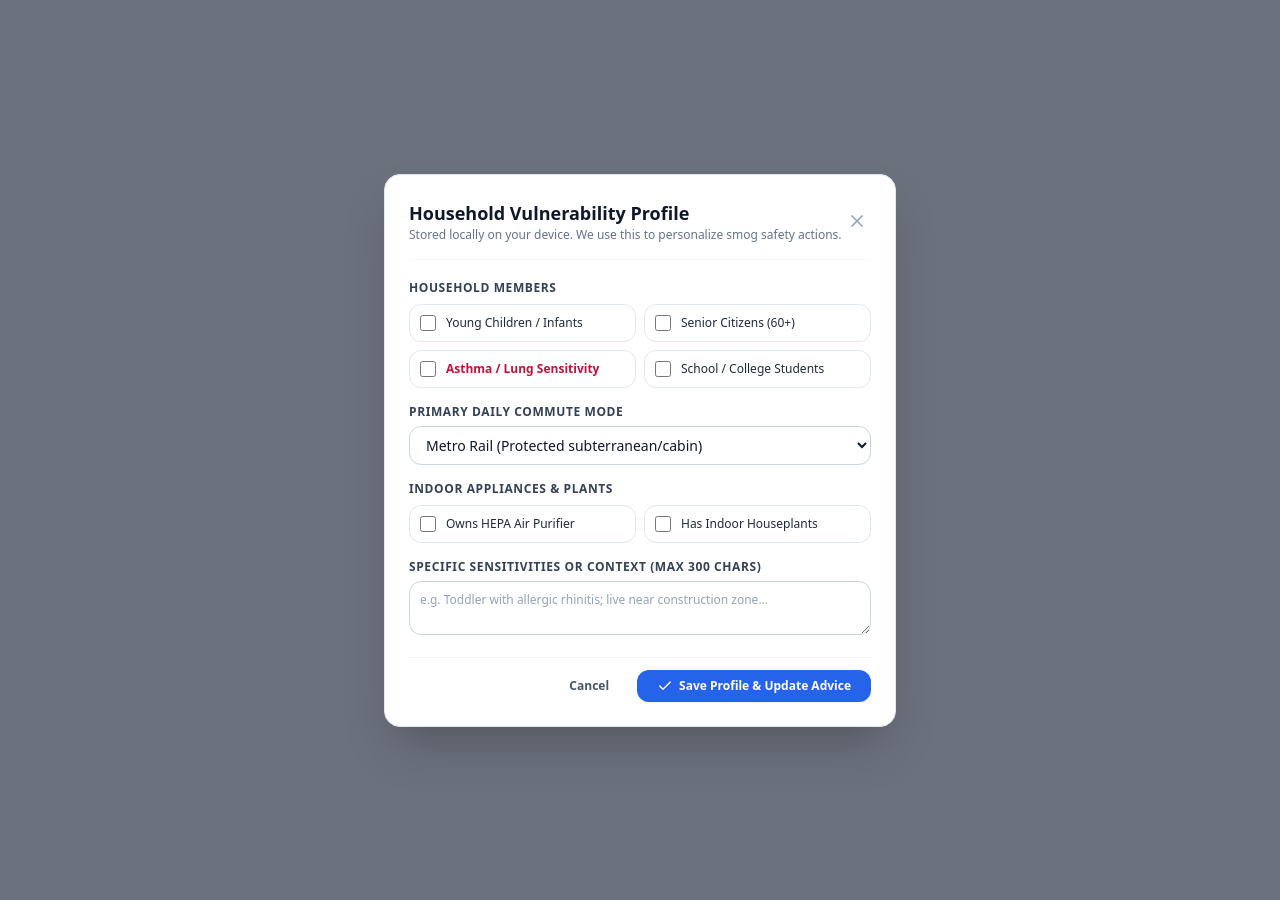
ProfileModal Component › renders form elements and allows saving updated configuration
The width and height of the screenshot is (1280, 900).
Later steps or results of the test are not shown.
Expected: the heading "Household Vulnerability Profile" is shown, [409,200,689,224]
Step 1. Click the checkbox labelled "Young Children / Infants" → (428, 322), box [420,314,436,330]
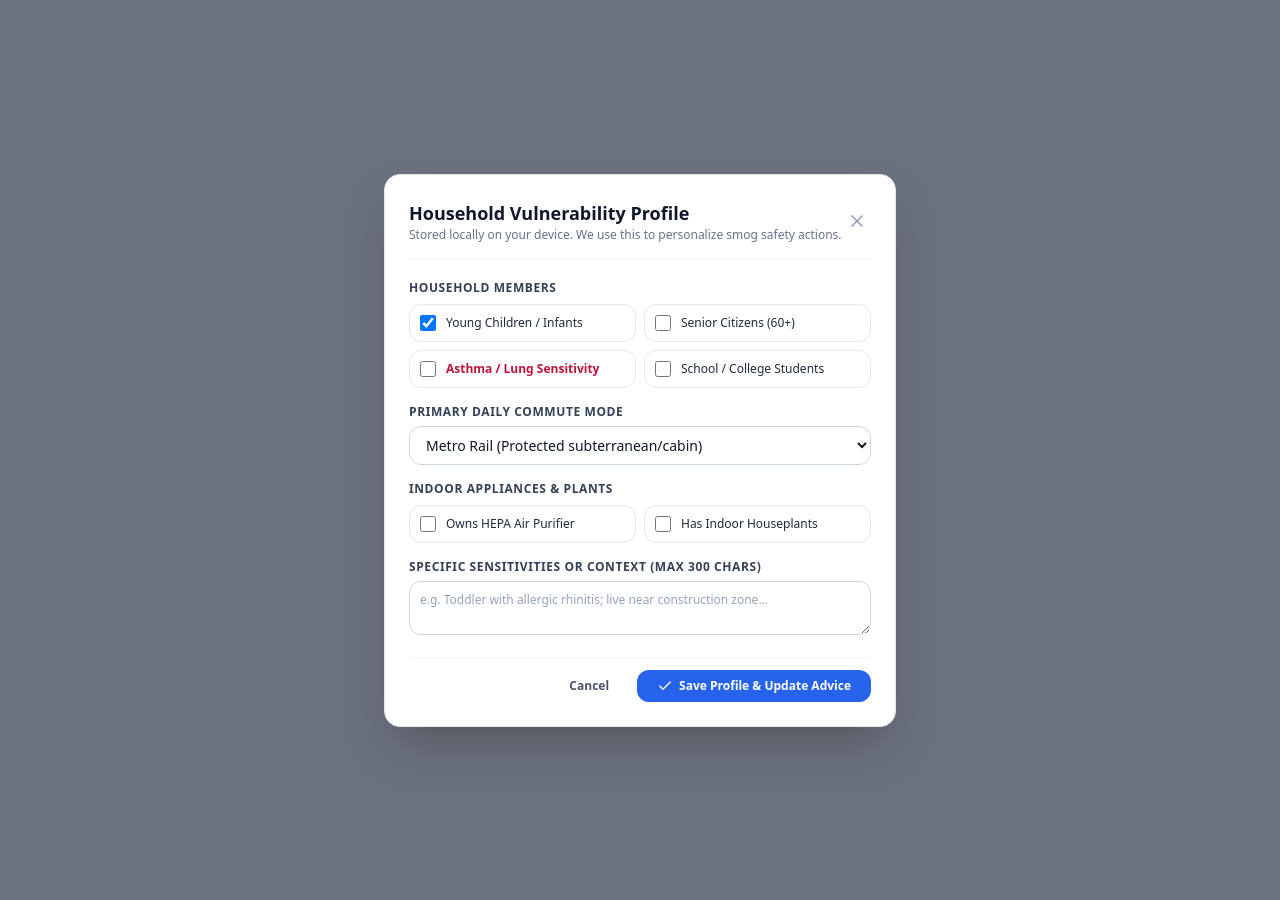
Expected: the checkbox labelled "Young Children / Infants" is checked, [420,314,436,330]
